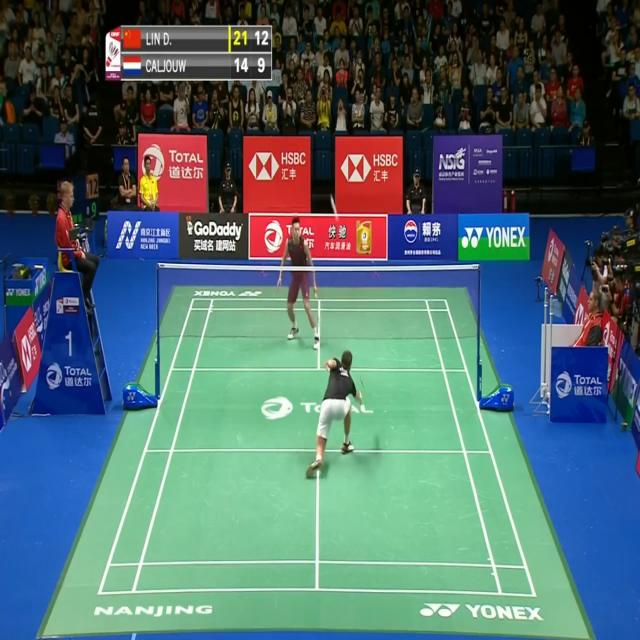Player1: (300, 346, 370, 482)
Player2: (269, 208, 328, 366)
